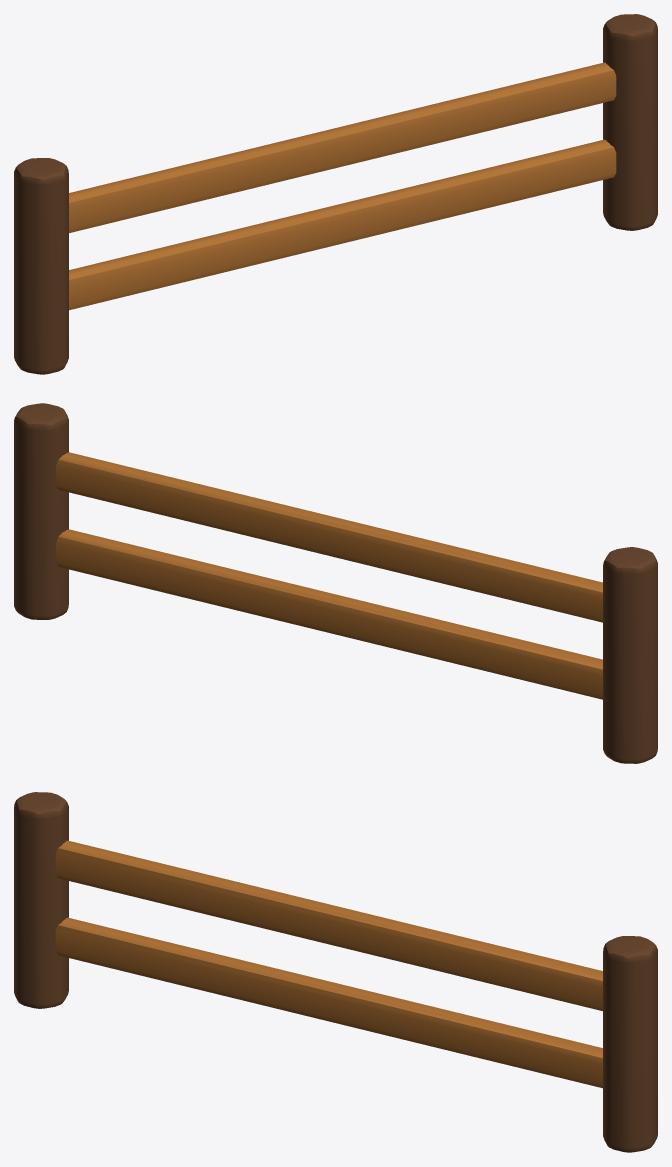
Rendered from prop_fence.glb.
3 renders of one model, top to bottom at view 1: azimuth 30°, elevation 25°; view 2: azimuth 150°, elevation 25°; view 3: azimuth 330°, elevation 25°, orthographic.
Visible parts, largest first — view 1: fence_rail2, fence_rail1, fence_post1, fence_post2; view 2: fence_rail1, fence_rail2, fence_post1, fence_post2; view 3: fence_rail2, fence_rail1, fence_post2, fence_post1.
Part boxes in pixels (<box>): fence_rail2: <box>69,139,616,310</box>; fence_rail1: <box>69,62,616,232</box>; fence_post1: <box>14,158,68,374</box>; fence_post2: <box>603,14,657,230</box>; fence_rail1: <box>56,452,602,622</box>; fence_rail2: <box>56,529,602,699</box>; fence_post1: <box>603,547,657,763</box>; fence_post2: <box>14,403,68,619</box>; fence_rail2: <box>55,917,602,1088</box>; fence_rail1: <box>55,840,602,1010</box>; fence_post2: <box>603,936,657,1152</box>; fence_post1: <box>14,792,68,1008</box>.
Bounding box in the file's own units: 1.73 × 0.52 × 0.129.
